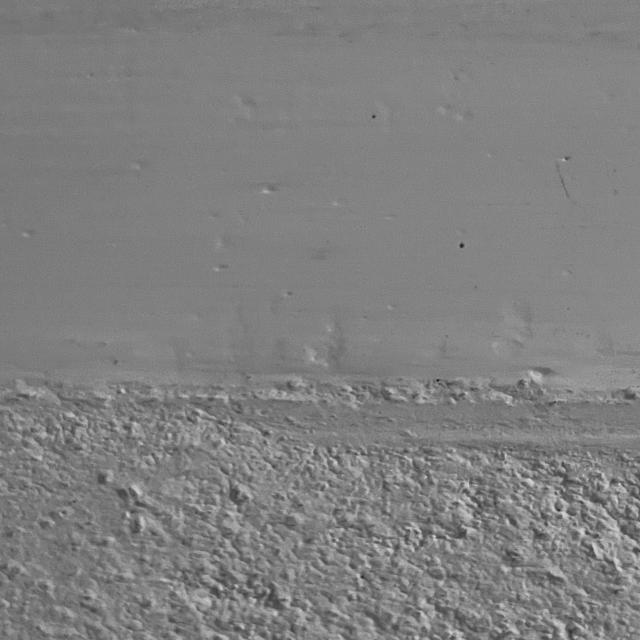rough and patchy surface: (0, 368, 639, 639)
